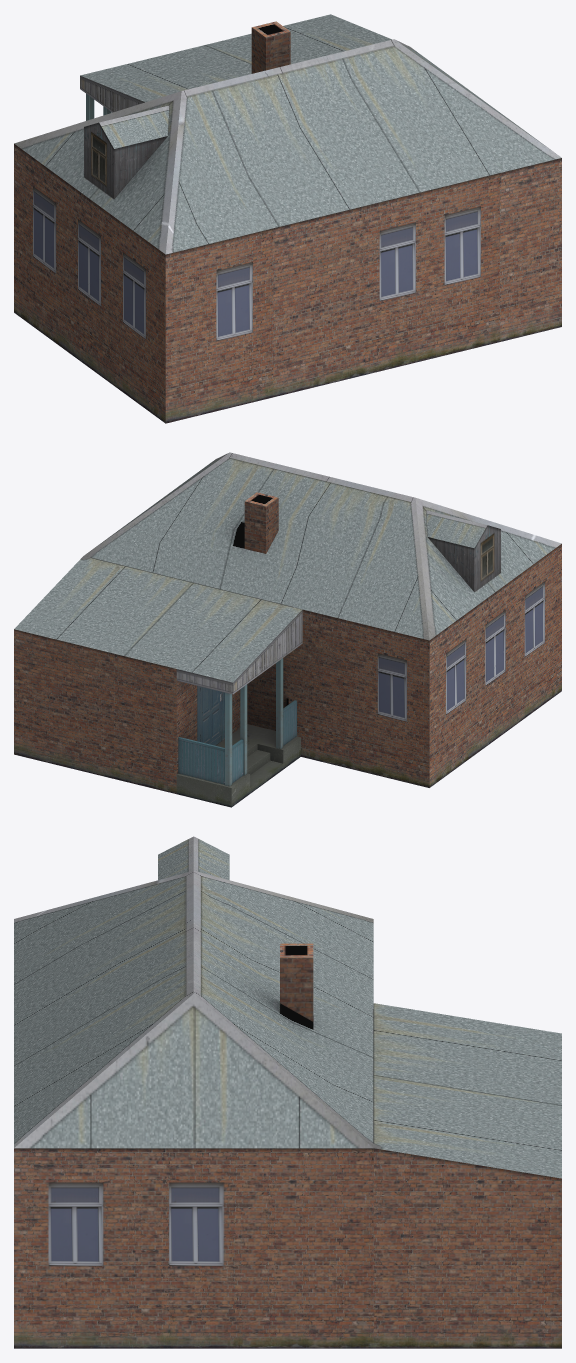
File: Building1.fbx
3 renders of one model, top to bottom at view 1: azimuth 30°, elevation 25°; view 2: azimuth 150°, elevation 25°; view 3: azimuth 270°, elevation 25°, orthographic. The views are drawn at different scales.
Parts seen in each view (by area): view 1: building5_building5_0.008; view 2: building5_building5_0.008; view 3: building5_building5_0.008.
Boxes of the visible parts, x1,y1,x2,y2 form: building5_building5_0.008: (14,14,561,423); building5_building5_0.008: (14,452,561,807); building5_building5_0.008: (14,836,561,1348).
Size of the model in its own units: 1925 by 1182 by 1945.
